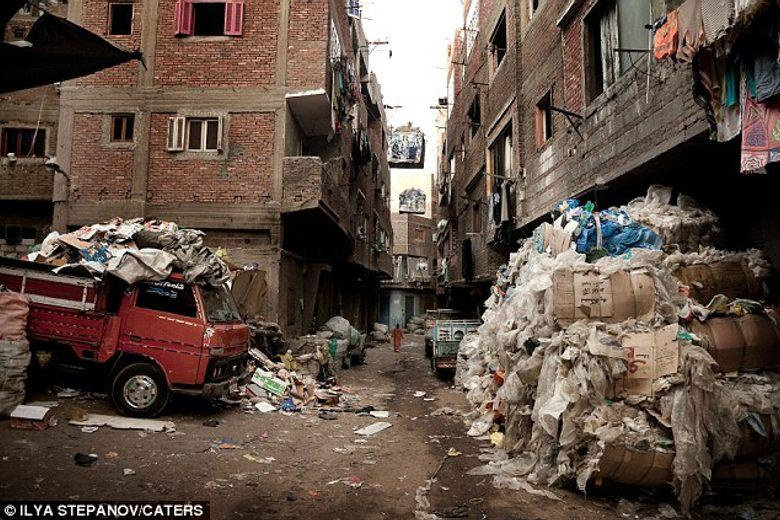garbage: (465, 188, 775, 479), (34, 206, 236, 288), (245, 315, 370, 418)
